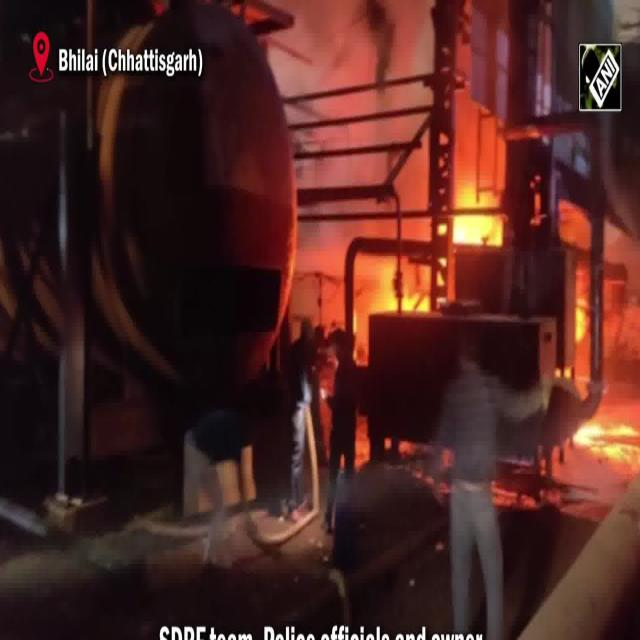fire: (455, 190, 501, 242)
